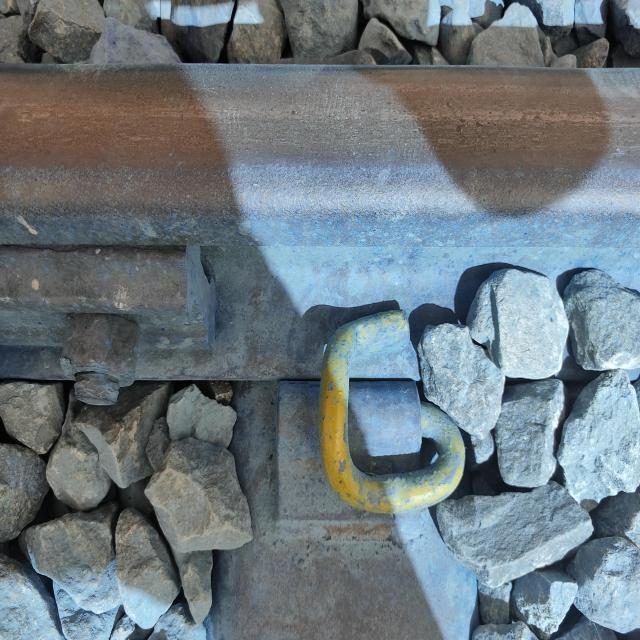Good Fasteners: (255, 281, 475, 559)
